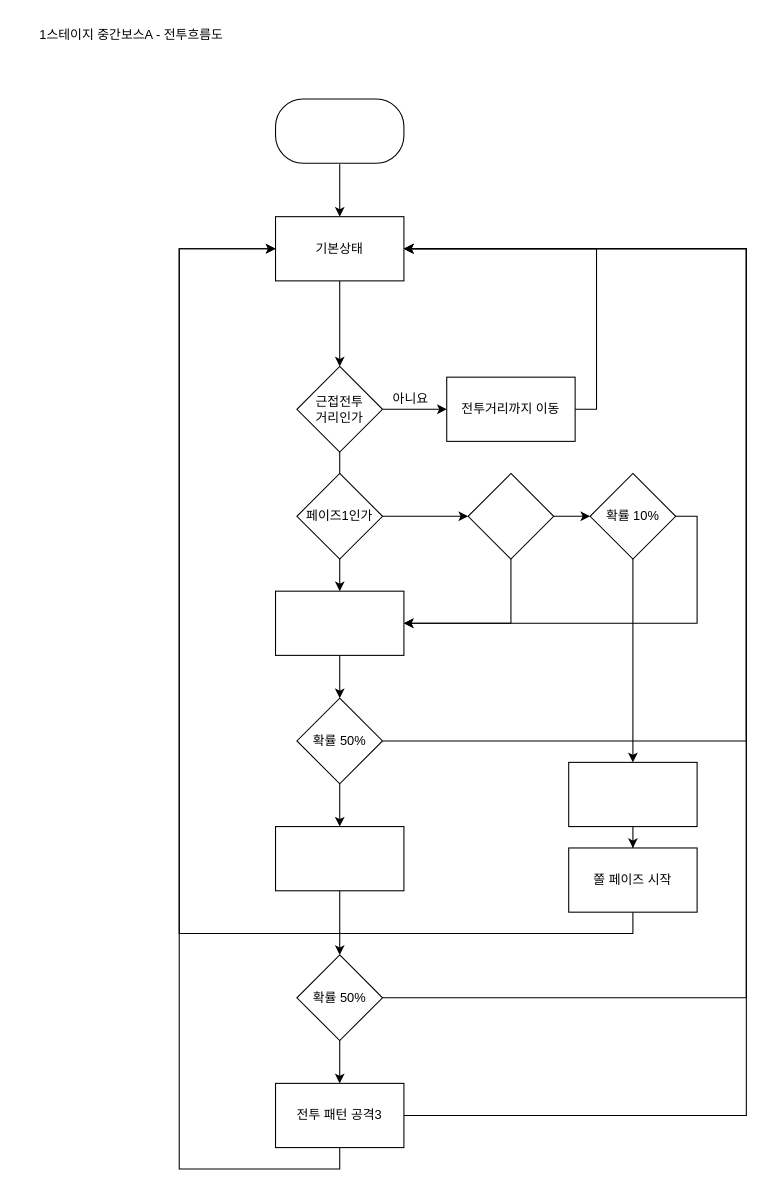
This 774x1196 diagram has some shape labels left out. Each missing label, with the box of its shape:
보스전 이벤트시작: (274, 98, 404, 163)
임의 좌표로 순간이동 후 동료소환: (568, 761, 697, 827)
전투 패턴 공격1: (274, 590, 404, 655)
전투 패턴 공격2: (274, 826, 404, 891)
쫄페이즈 인가: (467, 472, 554, 559)
